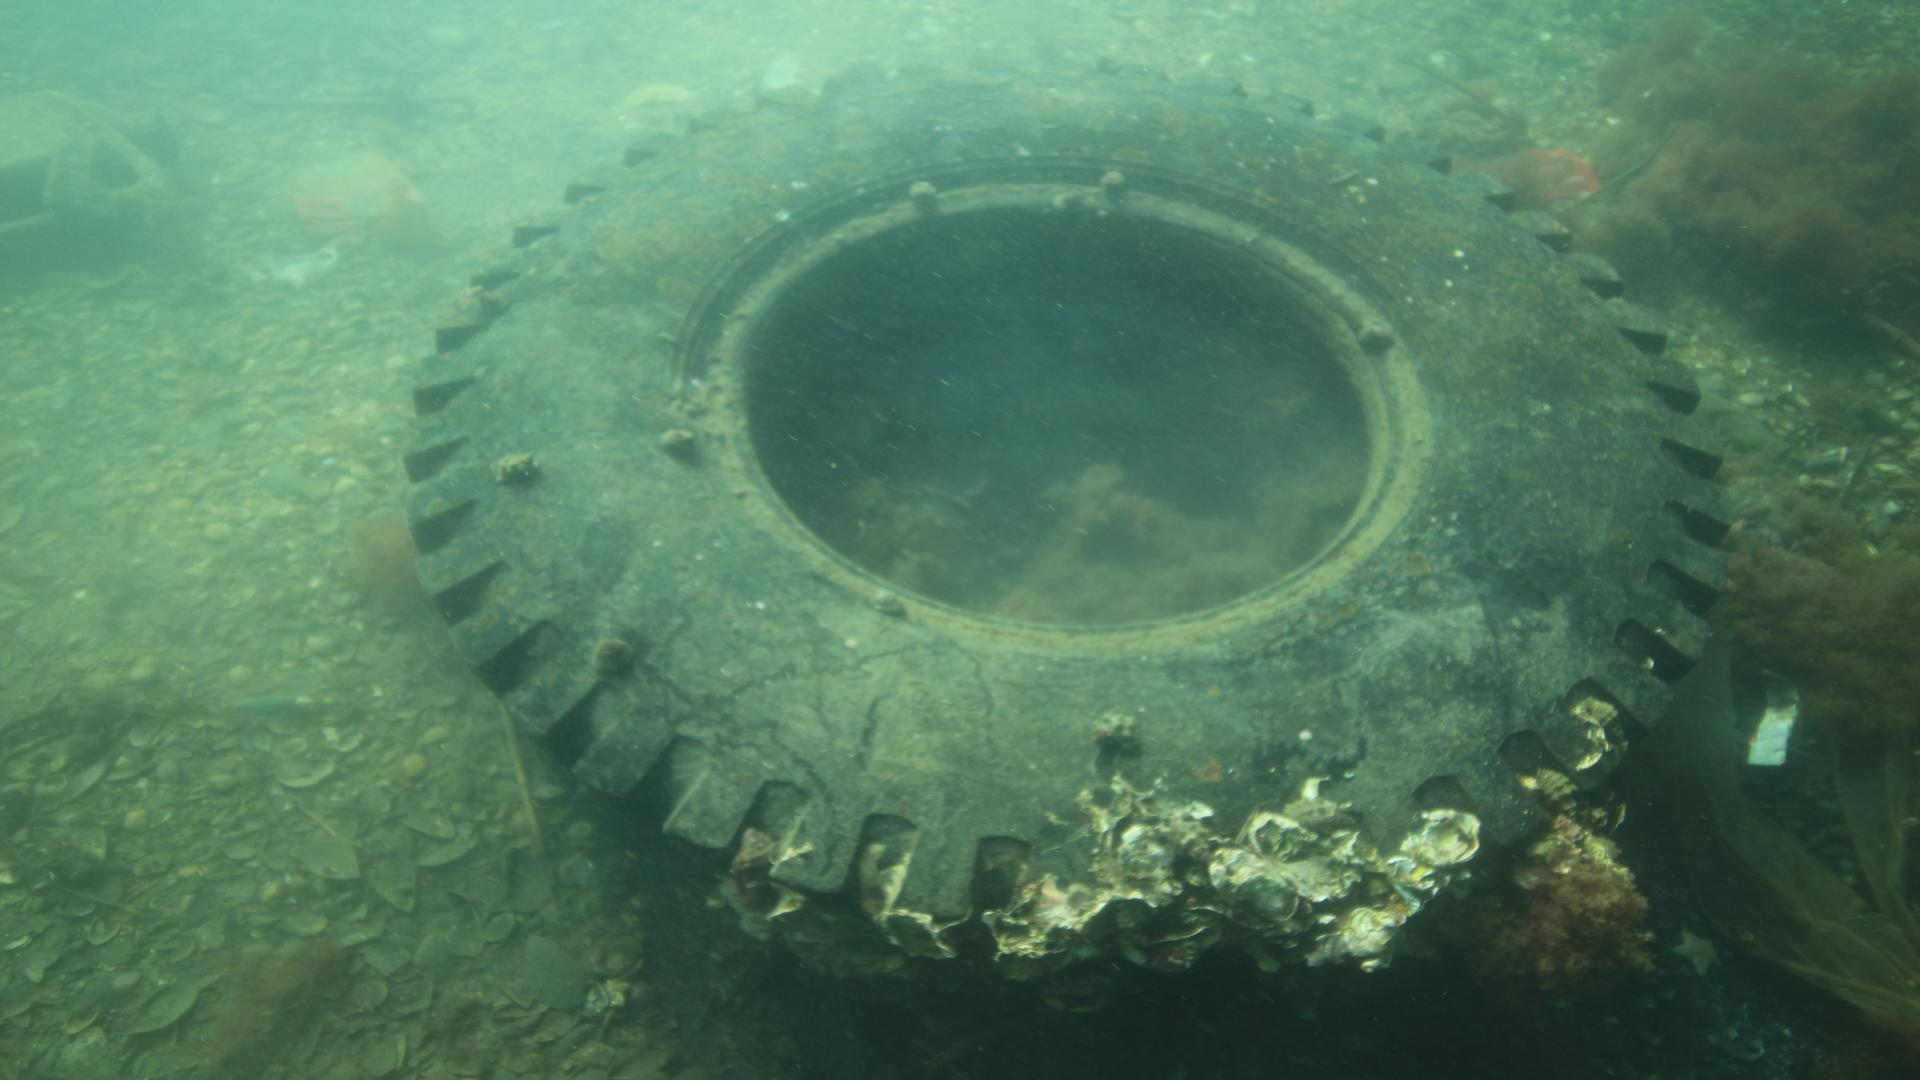tire: (400, 55, 1735, 1051)
